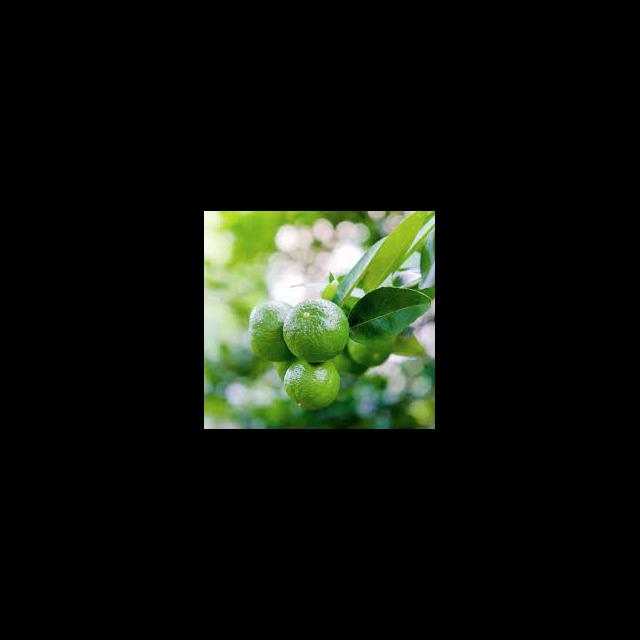lime: (282, 298, 350, 366), (284, 360, 342, 412), (248, 301, 292, 364), (346, 335, 394, 368)
